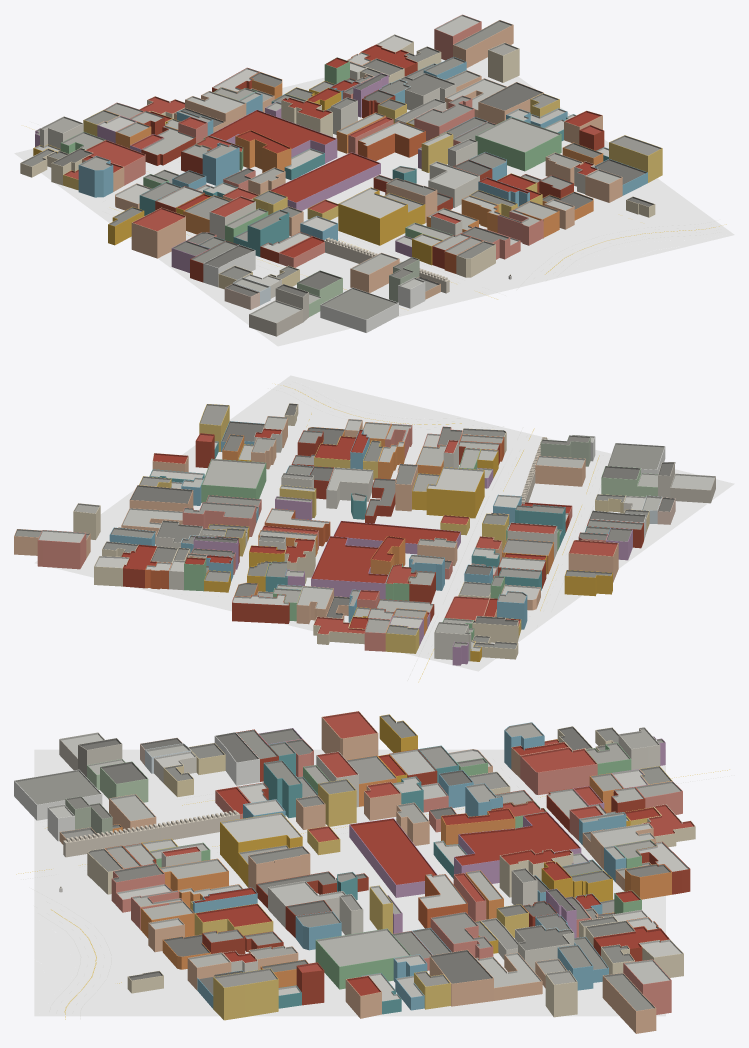
3 views of the same model, one above another, from view 1: azimuth 30°, elevation 25°; view 2: azimuth 150°, elevation 25°; view 3: azimuth 270°, elevation 25° (orthographic). The views are drawn at different scales.
Parts seen in each view (by area): view 1: walls, roofs, plaza, stone, concrete; view 2: roofs, walls, plaza, markings, pavers, concrete; view 3: roofs, walls, plaza, stone, concrete, pavers, markings.
Boxes of the visible parts, x1,y1,x2,y2 form: walls: (20, 21, 662, 336); roofs: (21, 14, 662, 323); plaza: (14, 55, 734, 346); stone: (324, 237, 511, 293); concrete: (559, 231, 731, 277); roofs: (14, 403, 715, 651); walls: (14, 404, 715, 665); plaza: (34, 375, 734, 671); markings: (163, 382, 603, 682); pavers: (487, 490, 595, 503); concrete: (286, 377, 460, 418); roofs: (14, 711, 695, 1011); walls: (14, 716, 695, 1033); plaza: (34, 749, 665, 1016); stone: (59, 810, 239, 892); concrete: (34, 914, 76, 1016); pavers: (153, 800, 216, 854); markings: (16, 759, 734, 1019).
Size of what is drawn, in the model's own units: 278 by 14.2 by 285.
